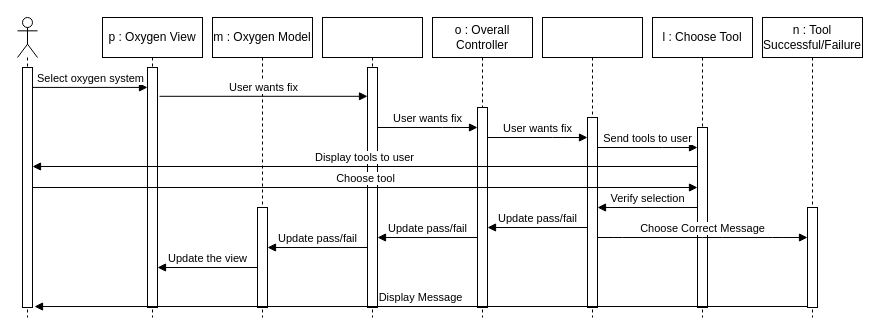
The diagram is 880 pixels wide and 335 high, and some of its shapes have lost their labels. The shapes that lost their labels are listed below. From the top down, each one's box as (x1, y1, x2, y2) in pixels, then its label:
(322, 16, 422, 318): c : Oxygen Controller
(542, 16, 642, 318): t : Tool Controller
